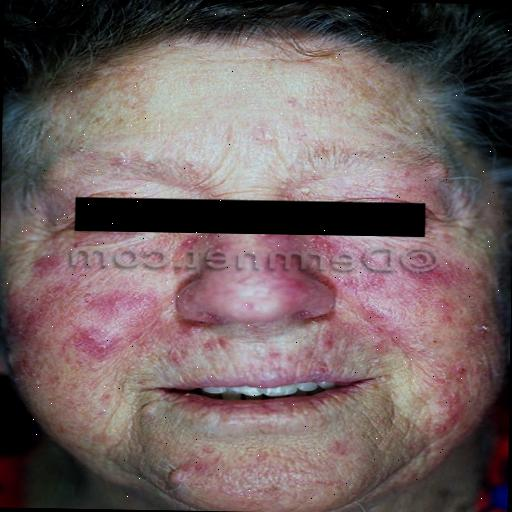Skin_Lesion: (72, 278, 126, 370), (0, 286, 41, 390), (4, 51, 32, 121), (172, 448, 222, 484), (338, 262, 390, 295), (406, 158, 463, 188), (407, 260, 448, 288), (440, 388, 467, 430), (30, 250, 60, 286), (354, 297, 385, 331), (172, 234, 210, 258), (136, 290, 160, 328), (2, 130, 18, 184), (308, 236, 340, 256), (250, 120, 270, 144), (440, 305, 460, 329), (470, 324, 488, 349), (328, 438, 348, 460), (450, 358, 468, 382), (319, 330, 336, 354), (215, 122, 233, 144), (164, 346, 182, 366), (324, 479, 344, 494), (314, 362, 330, 378), (422, 418, 437, 432), (402, 472, 414, 488), (436, 421, 448, 436)
